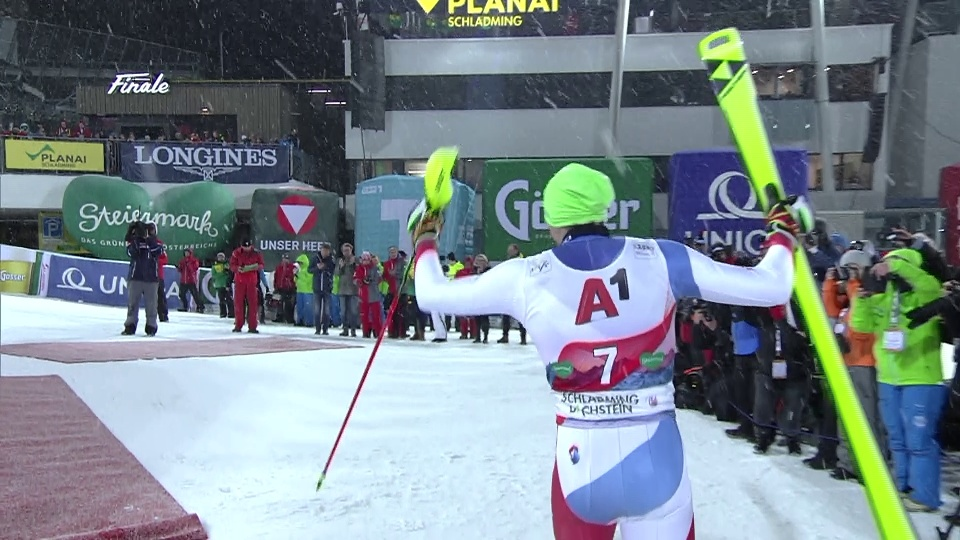a1: (574, 268, 634, 326)
goesser: (486, 168, 662, 237), (1, 261, 32, 290)
longines: (132, 142, 295, 183)
steiermark: (70, 192, 241, 243)
uniqa: (681, 173, 777, 261), (53, 261, 187, 313)
unserheer: (266, 196, 332, 248)
